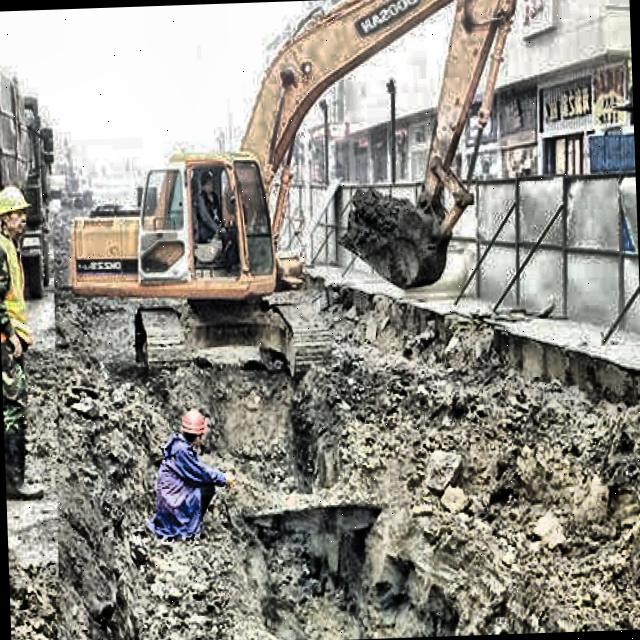helmet: (0, 179, 34, 243), (177, 405, 209, 454)
